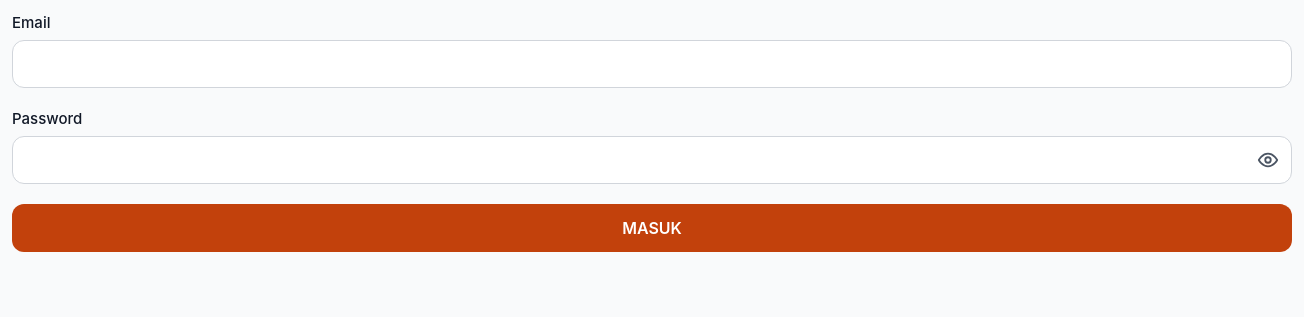
Test case: LoginForm › shows inline errors for empty fields and makes no request
This screenshot has width=1304, height=317.
What coordinates should you click on to do the following:
click the button "MASUK"
I would click on:
 (652, 228)
Its box is [12,204,1292,252].
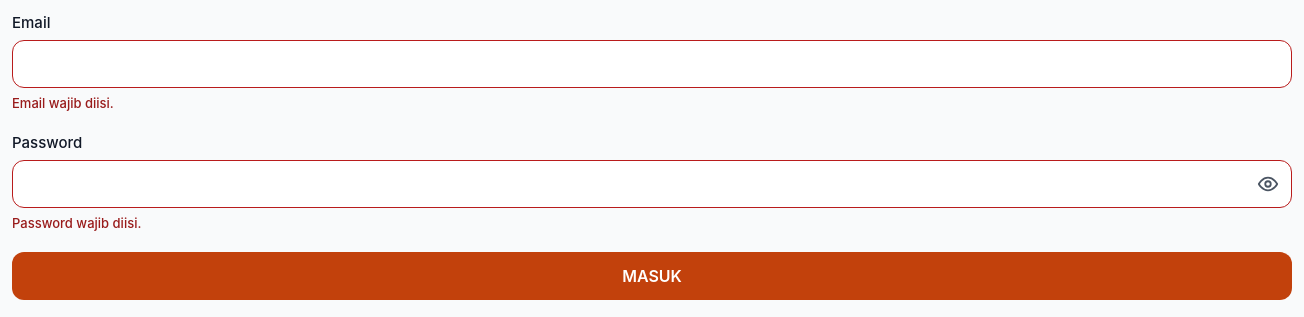
Now the text "Email wajib diisi." is shown, box [12,95,114,111]
Now the text "Password wajib diisi." is shown, box [12,215,141,231]
